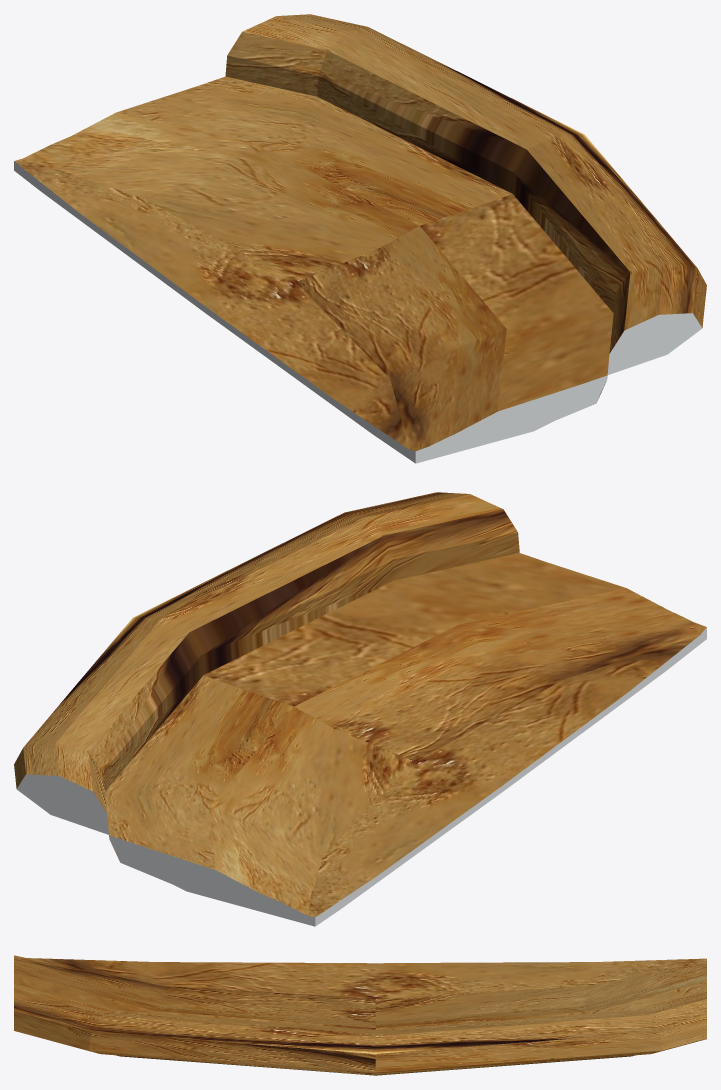
File: rec8.gltf
The picture shows the model from 3 angles, top to bottom: view 1: azimuth 30°, elevation 25°; view 2: azimuth 150°, elevation 25°; view 3: azimuth 270°, elevation 25°; orthographic projection. The views are drawn at different scales.
Visible parts, largest first — view 1: 평면; view 2: 평면; view 3: 평면.
Boxes of the visible parts, x1,y1,x2,y2 form: 평면: (14, 14, 706, 463); 평면: (14, 492, 706, 926); 평면: (14, 955, 706, 1075).
Size of the model in its own units: 0.4353 by 0.0999 by 0.7822.
1 material, 1 textured.
